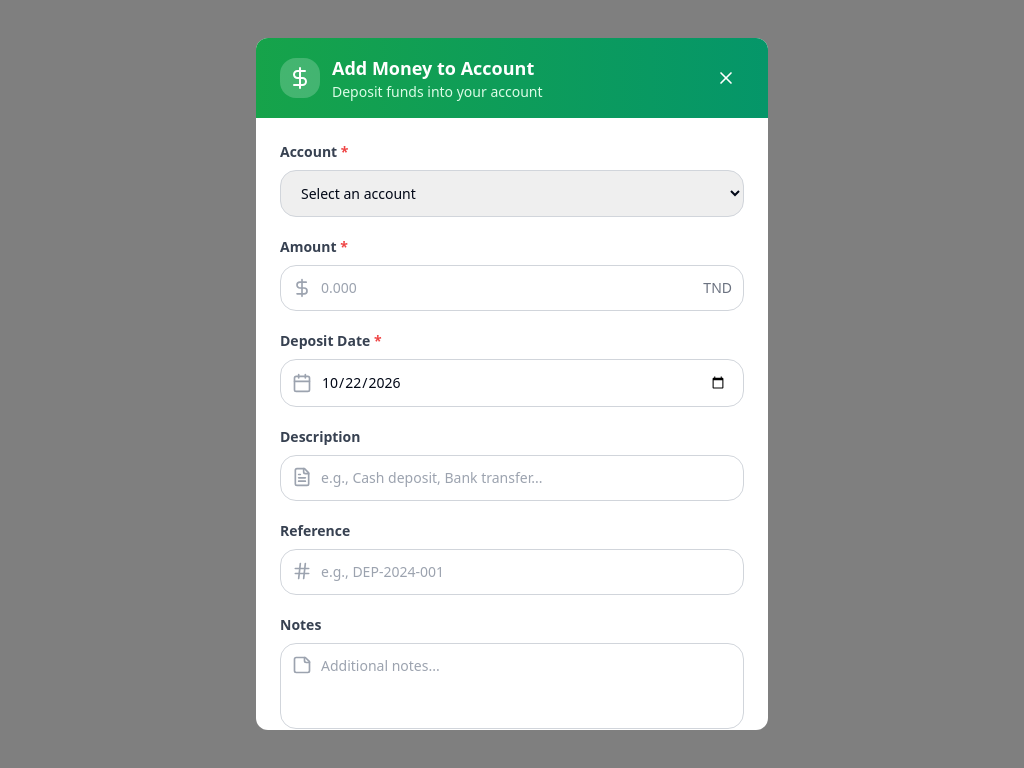
Scenario: DepositModal › Account Selection › should display account currency in amount input
Select "Cash Account - 5 000,000 EUR" in the dropdown. click: [512, 194]
box: [280,170,744,217]
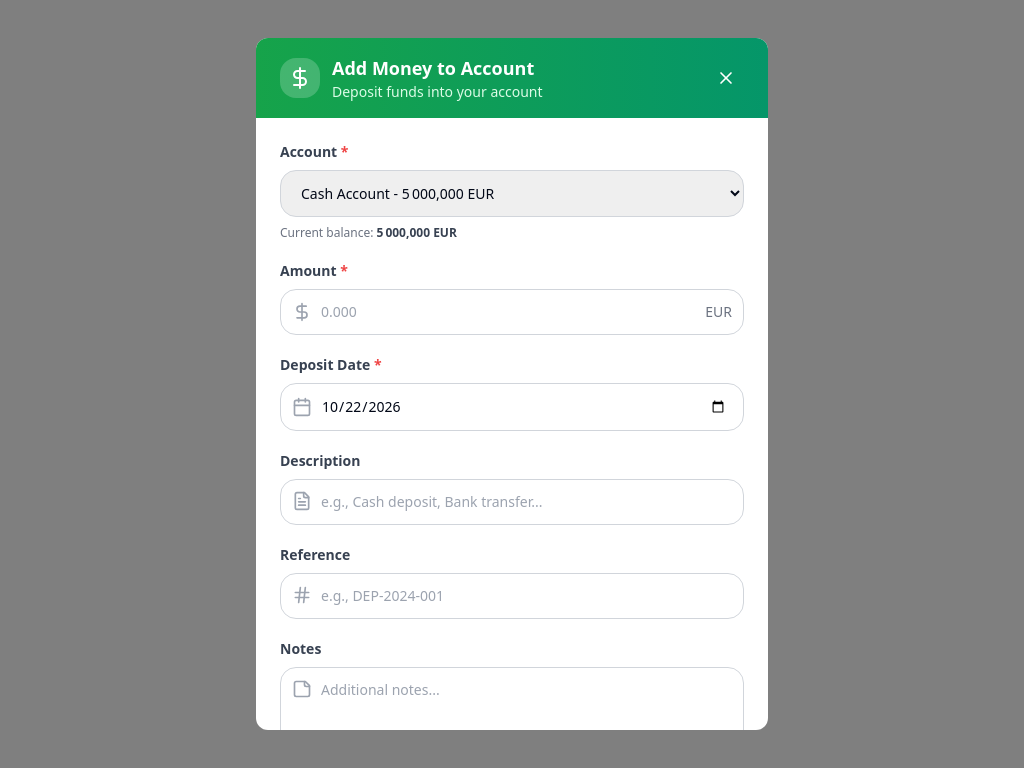
Check: the text "EUR" is shown, box [705,302,732,322]
